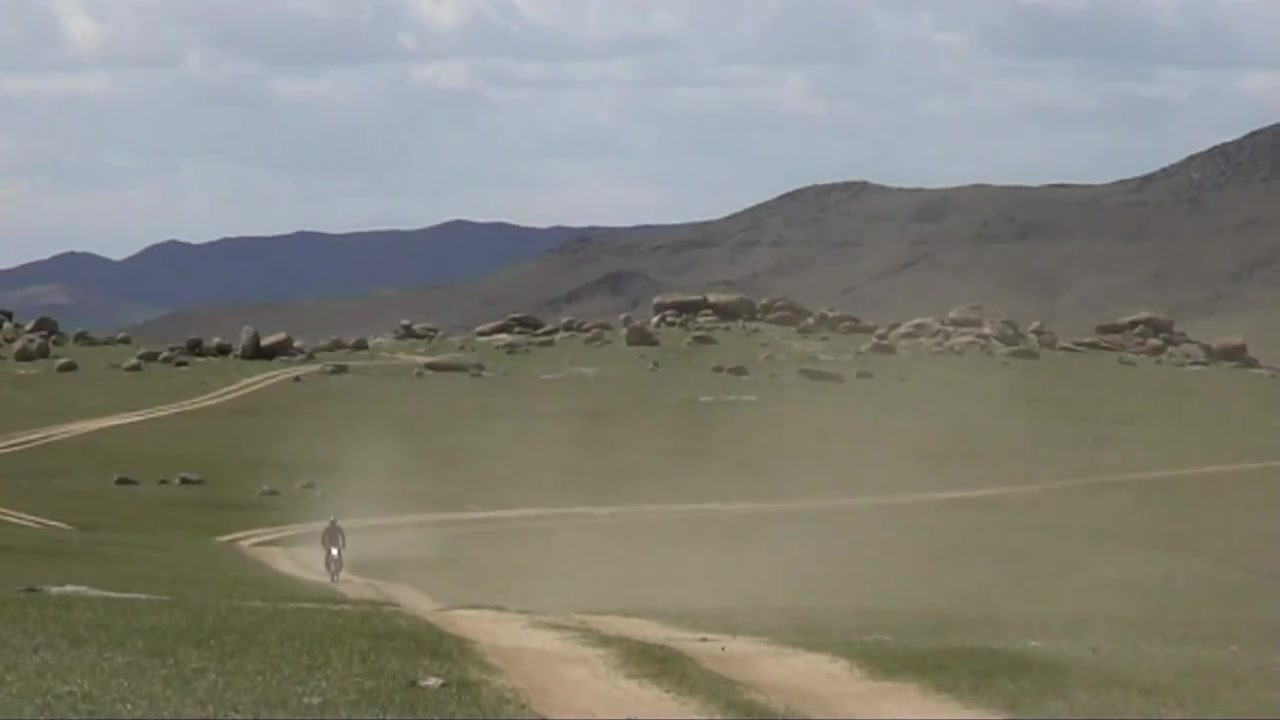motorbike: (327, 539, 353, 581)
